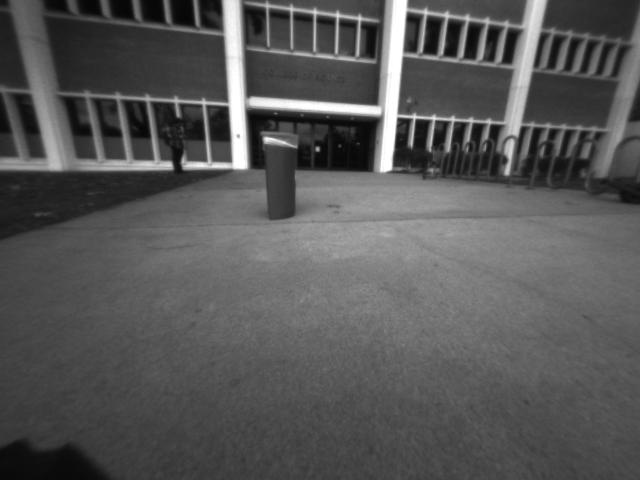trashcan_open: (256, 129, 302, 224)
